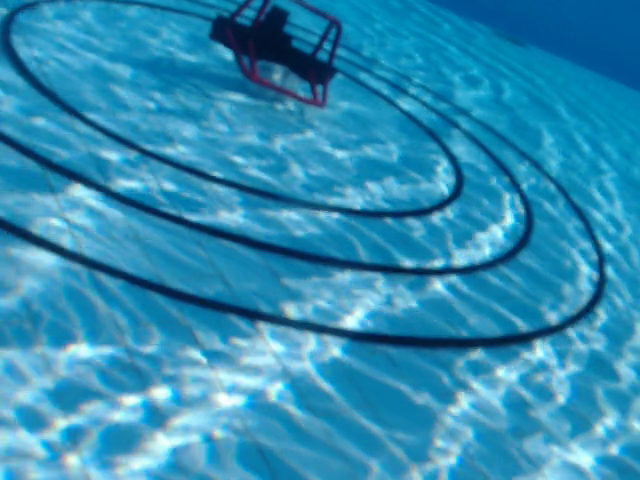submarine: (209, 1, 346, 112)
